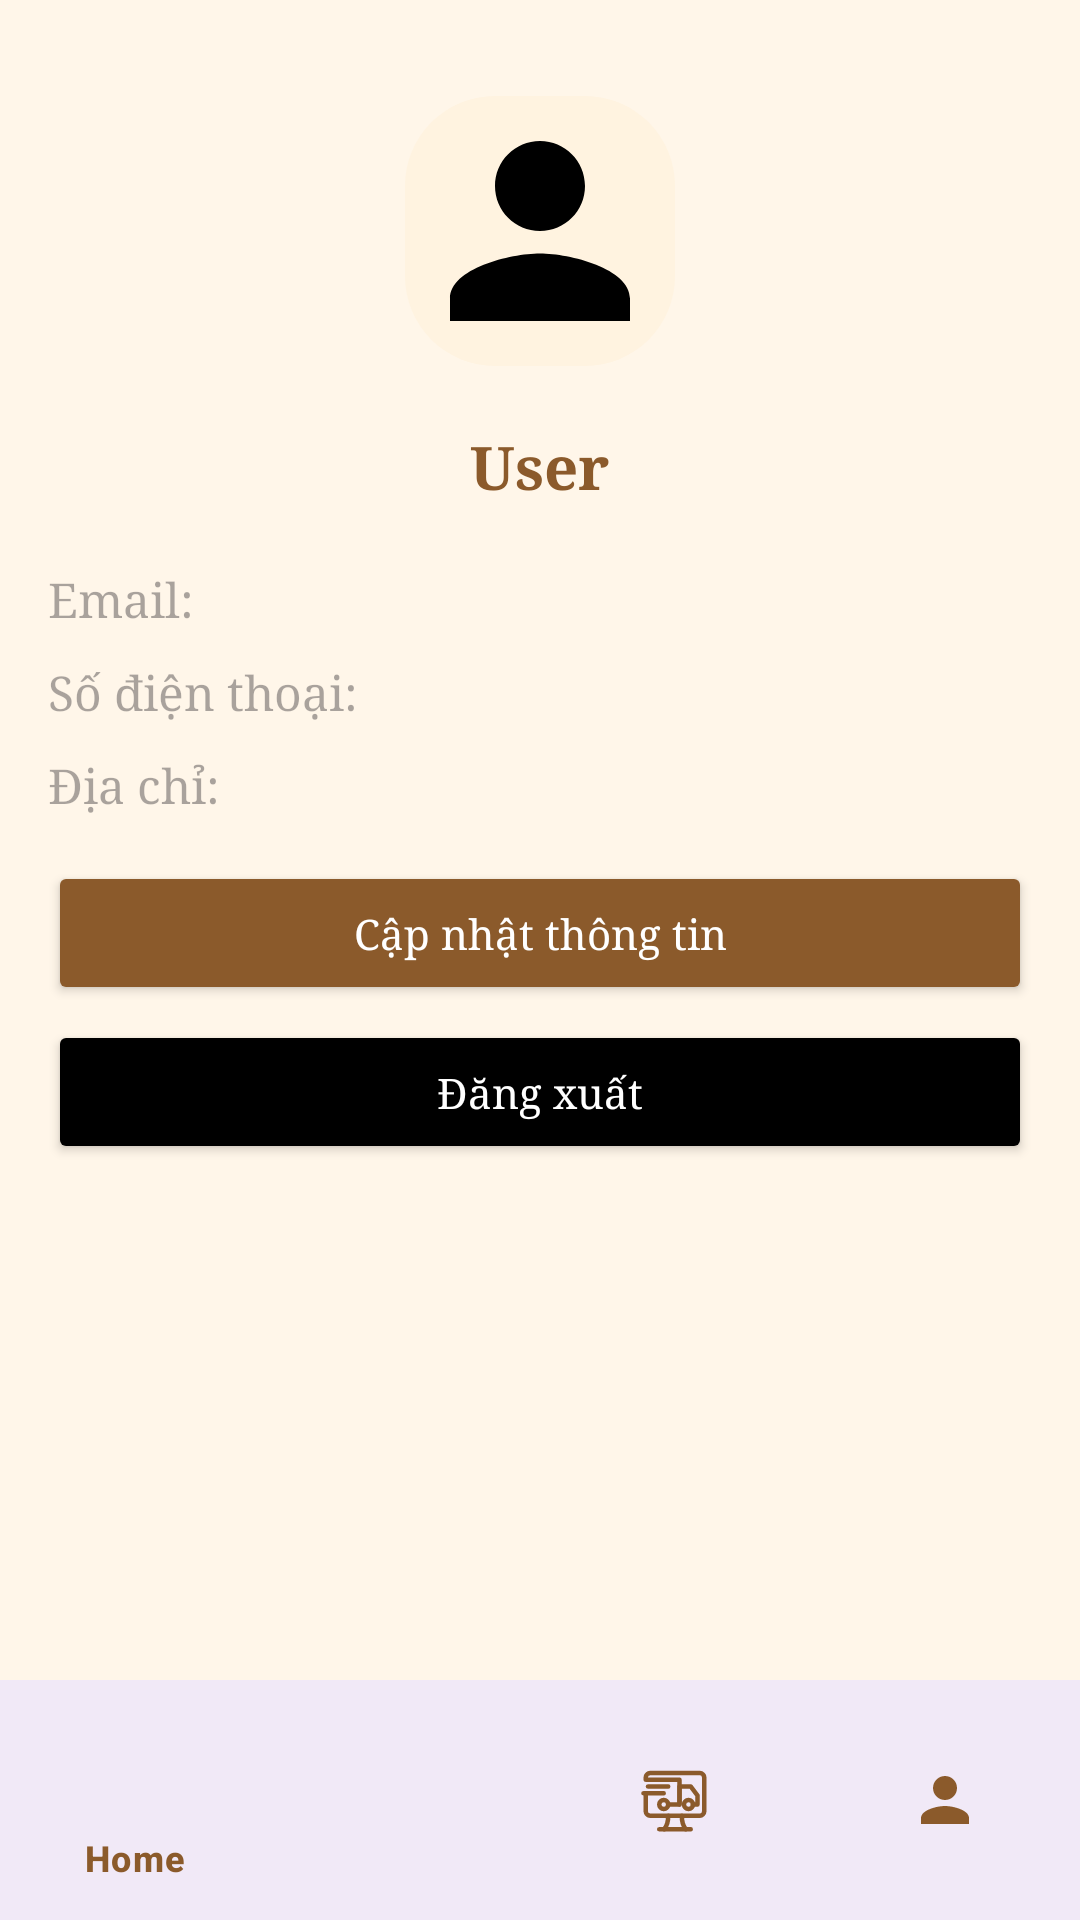

Named icons in this screenshot (1080×1920) and their centers, point (x, y):
Ảnh đại diện người dùng: point (540, 231)
